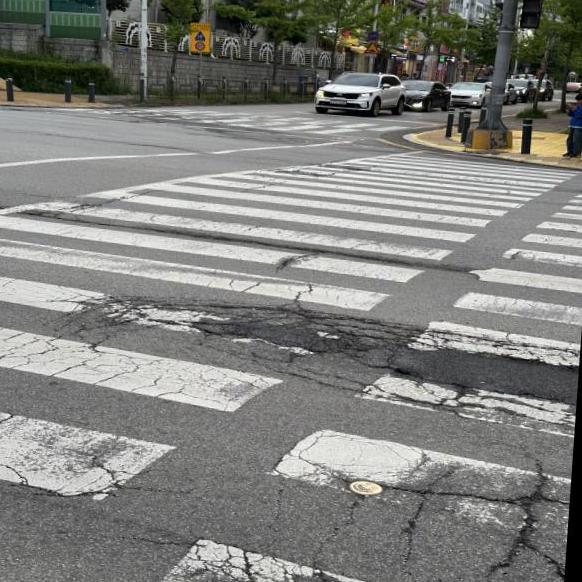pothole: (93, 290, 446, 378)
